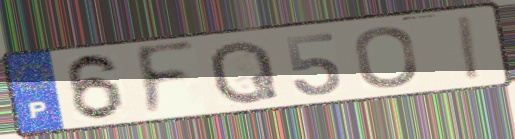5: (281, 29, 344, 97)
6: (64, 51, 131, 126)
F: (133, 38, 200, 122)
I: (456, 13, 484, 83)
O: (351, 23, 421, 90)
Q: (207, 37, 282, 107)
